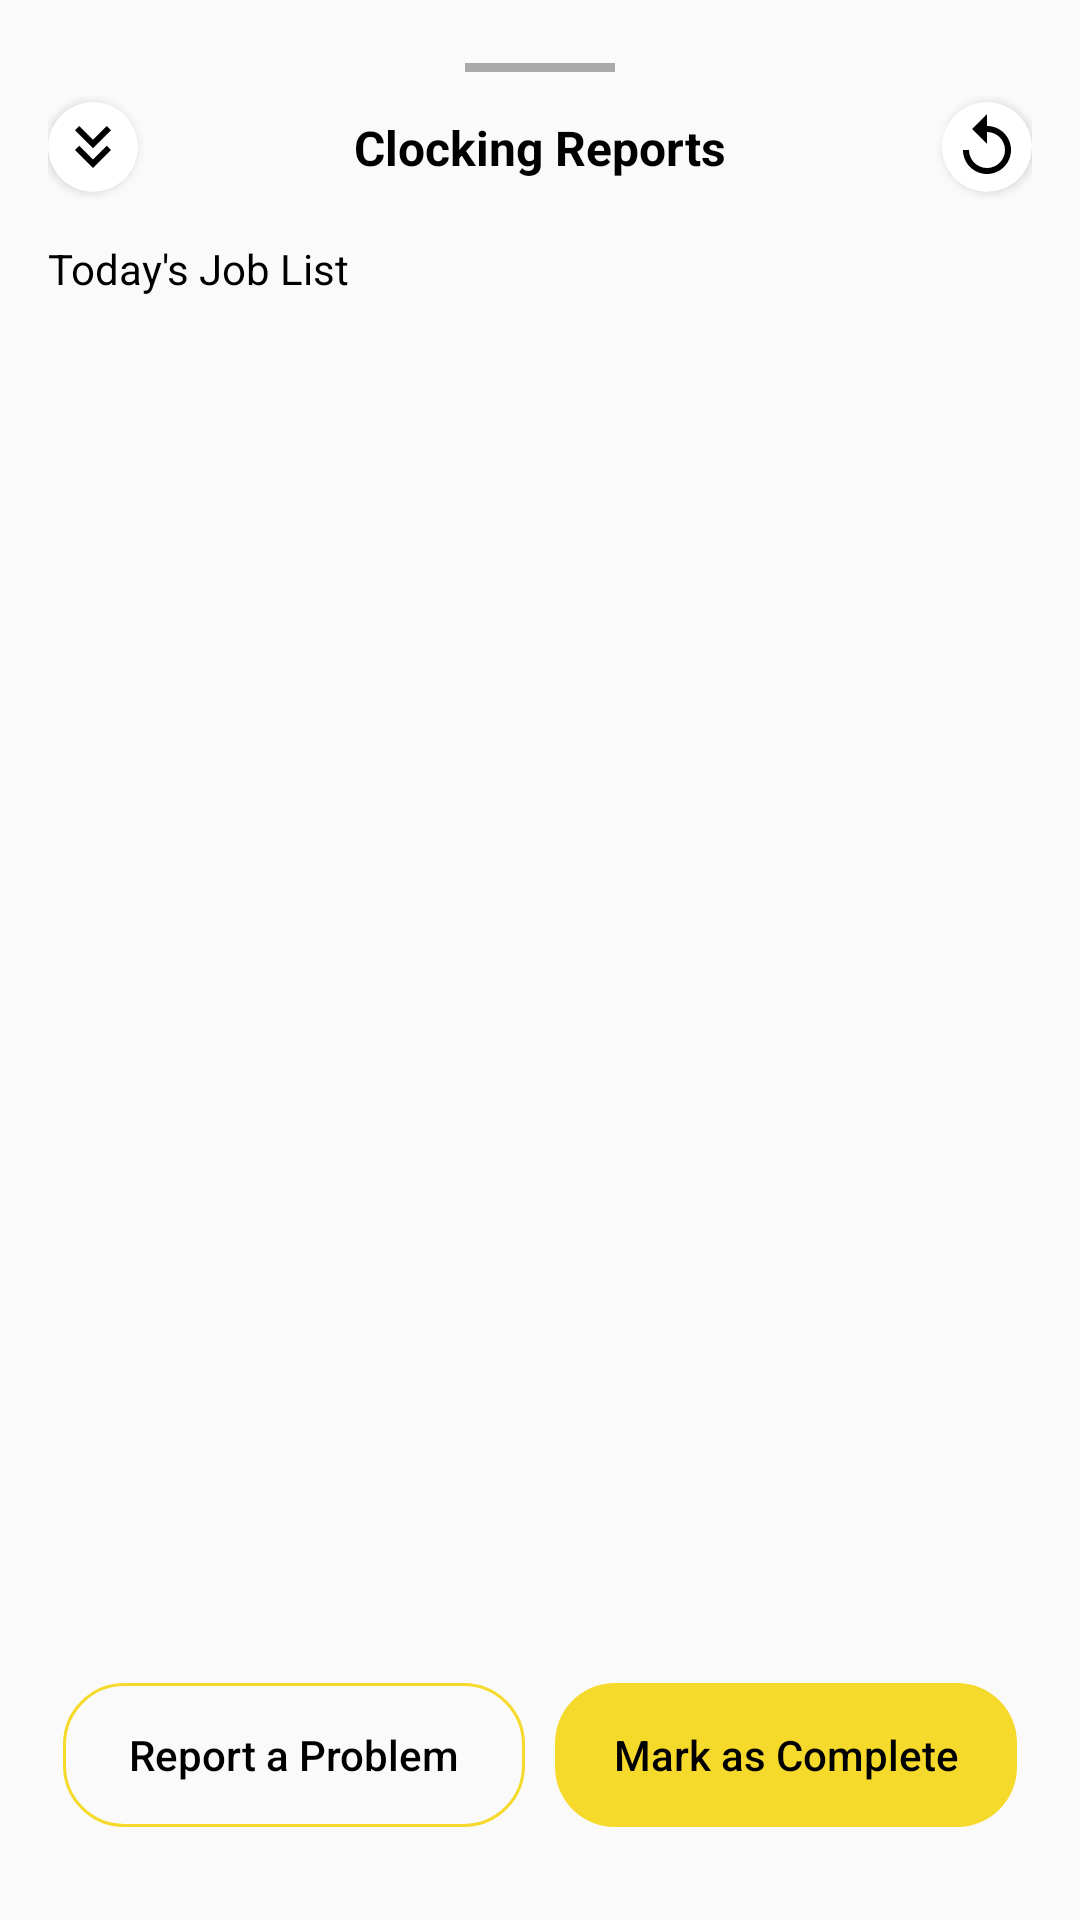

Where to tap for icons on this 1080x1920 app screen, as (x=x, y=y):
arrow down: (x=93, y=147)
replay: (x=987, y=144)
